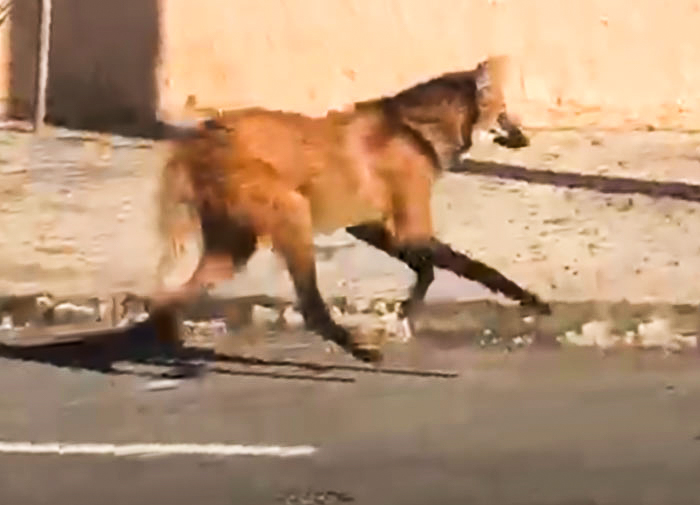LoboGuara: (132, 52, 571, 363)
